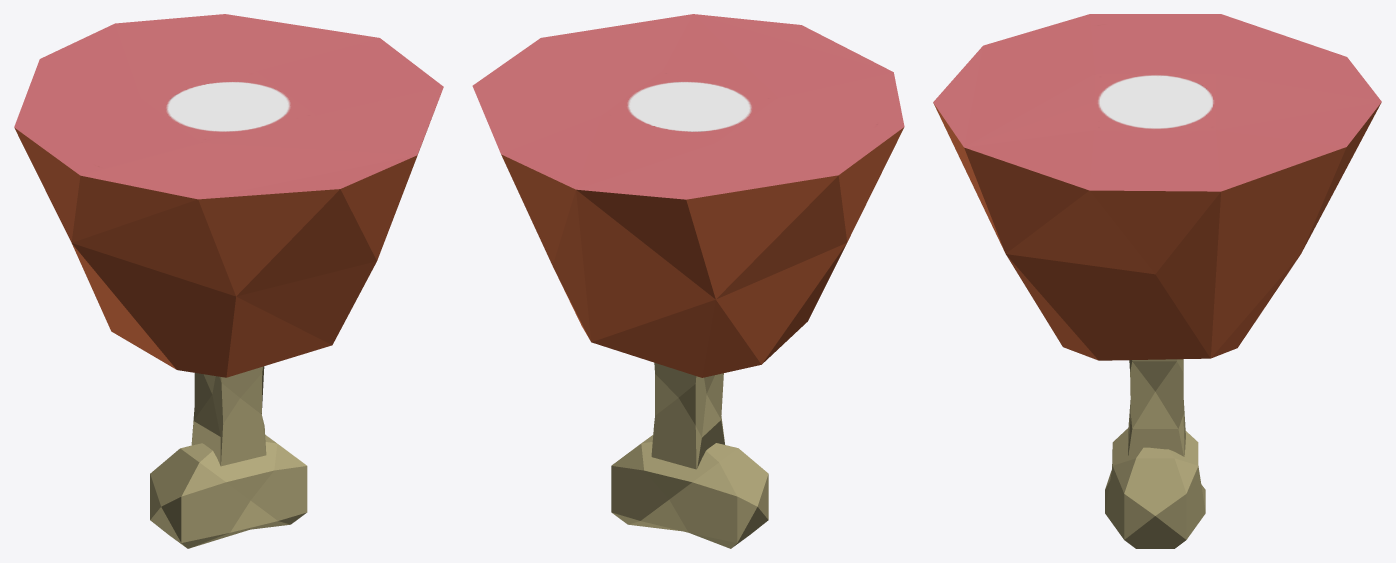
Rendered from carne.fbx.
3 views of the same model, side by side, from view 1: azimuth 30°, elevation 25°; view 2: azimuth 150°, elevation 25°; view 3: azimuth 270°, elevation 25° (orthographic).
Visible parts, largest first — view 1: carne, Hedra002, Hedra003; view 2: carne, Hedra002, Hedra003; view 3: carne, Hedra002, Hedra003.
Boxes of the visible parts, x1,y1,x2,y2 form: carne: (14, 14, 443, 377); Hedra002: (150, 435, 307, 548); Hedra003: (191, 366, 266, 466); carne: (472, 14, 904, 377); Hedra002: (611, 435, 768, 548); Hedra003: (651, 362, 724, 469); carne: (933, 14, 1381, 360); Hedra002: (1105, 428, 1205, 548); Hedra003: (1128, 359, 1185, 456).
Bounding box in the file's own units: 347 × 386 × 370.
Materials: 2 (1 with a texture image).
